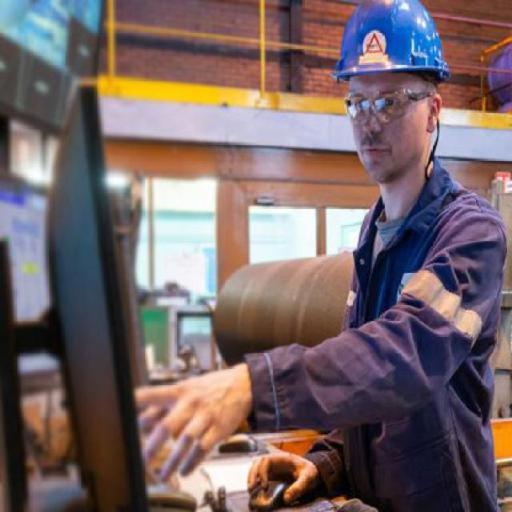glass: (340, 82, 427, 130)
person: (266, 2, 506, 509)
